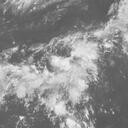cyclone: (37, 41, 94, 91)
